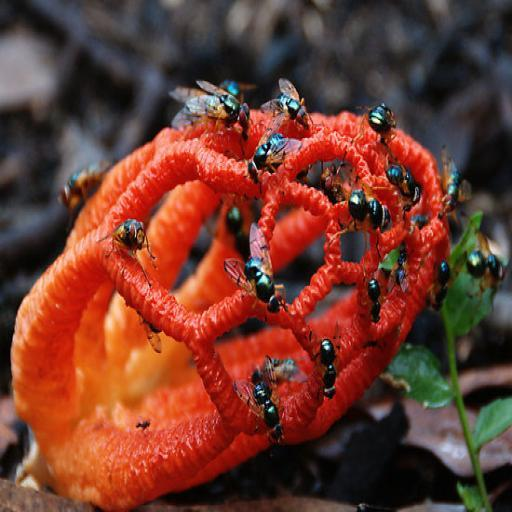mushroom: (13, 92, 453, 511)
